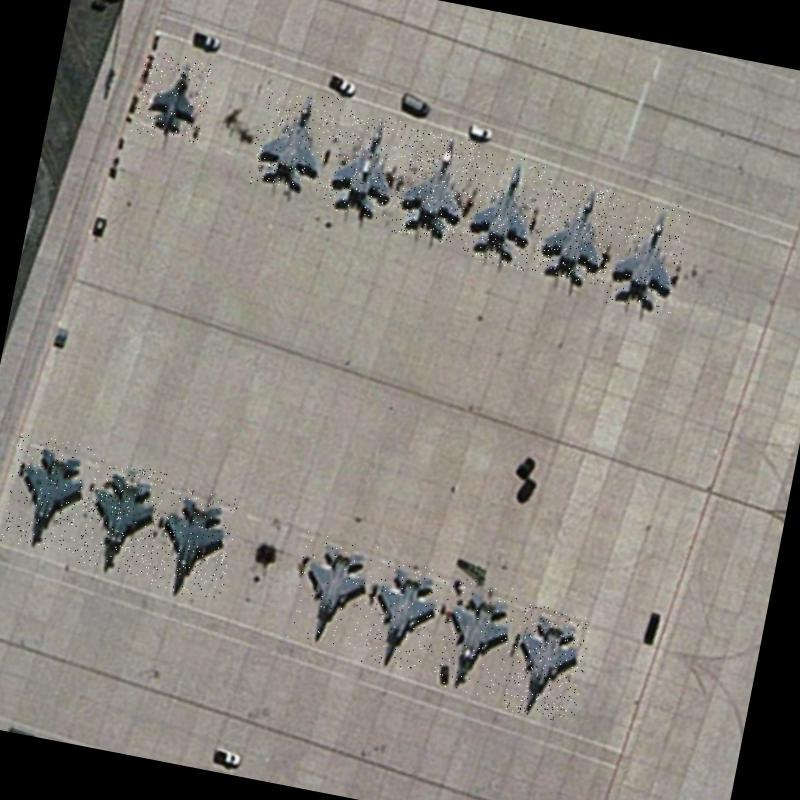A13: (0, 431, 97, 556), (499, 602, 594, 724), (287, 531, 381, 652), (430, 576, 521, 699), (74, 458, 168, 577), (602, 194, 692, 315), (148, 485, 241, 602), (390, 128, 481, 246), (246, 84, 340, 198), (458, 150, 546, 270), (320, 108, 412, 222), (360, 558, 447, 674), (530, 176, 621, 286)
A5: (130, 49, 215, 145)
